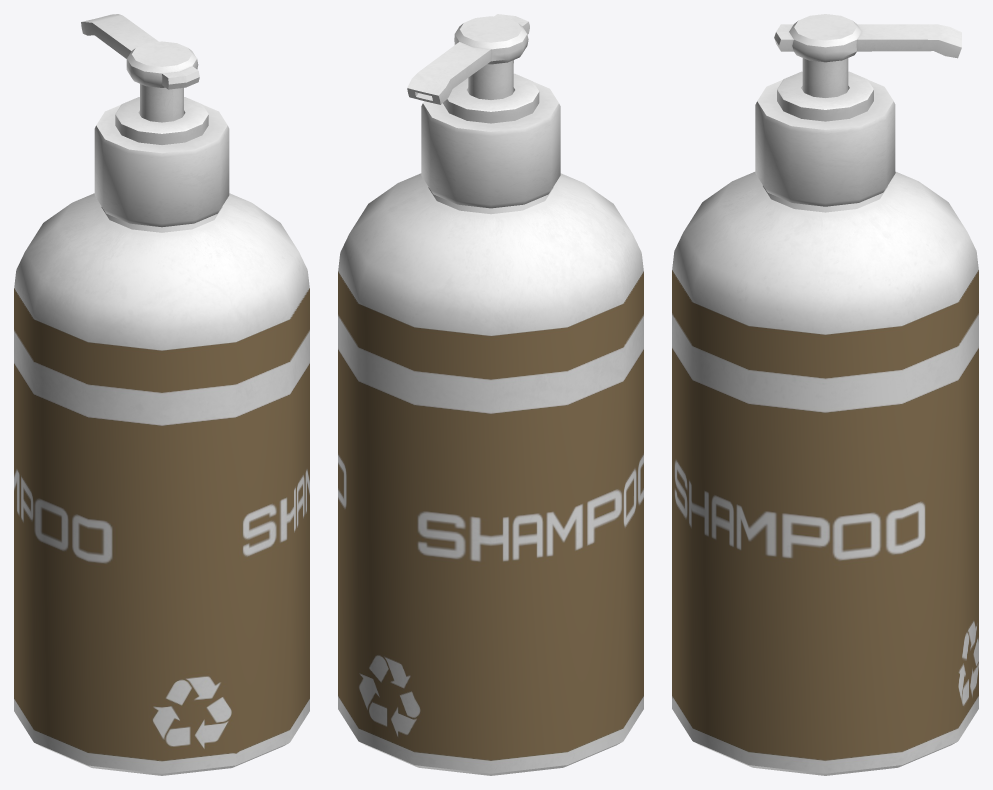
The picture shows the model from 3 angles, left to right: view 1: azimuth 30°, elevation 25°; view 2: azimuth 150°, elevation 25°; view 3: azimuth 270°, elevation 25°; orthographic projection. The views are drawn at different scales.
Parts seen in each view (by area): view 1: bottle, cap, top; view 2: bottle, cap, top; view 3: bottle, cap, top.
Part boxes in pixels (x1,y1,x2,y2): bottle: (14, 193, 309, 775); cap: (94, 97, 229, 227); top: (81, 14, 199, 122); bottle: (338, 173, 643, 775); cap: (421, 73, 560, 208); top: (407, 14, 529, 104); bottle: (672, 171, 978, 775); cap: (755, 71, 895, 206); top: (774, 14, 961, 97).
Size of the model in its own units: 0.8089 by 2 by 0.8089.
Materials: 1 (1 with a texture image).
